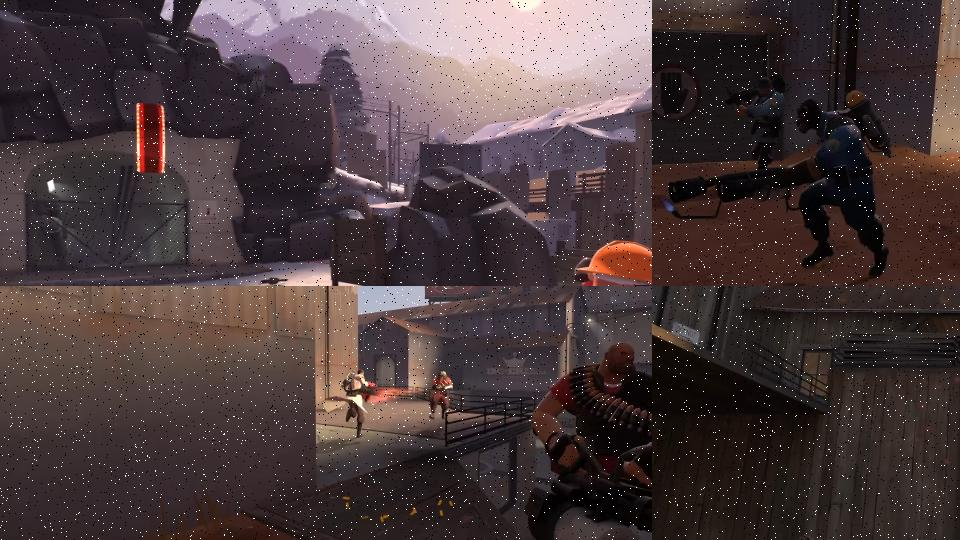Enemy: (664, 94, 898, 285), (526, 339, 652, 540), (720, 67, 794, 181), (321, 369, 385, 440), (427, 370, 454, 422)
